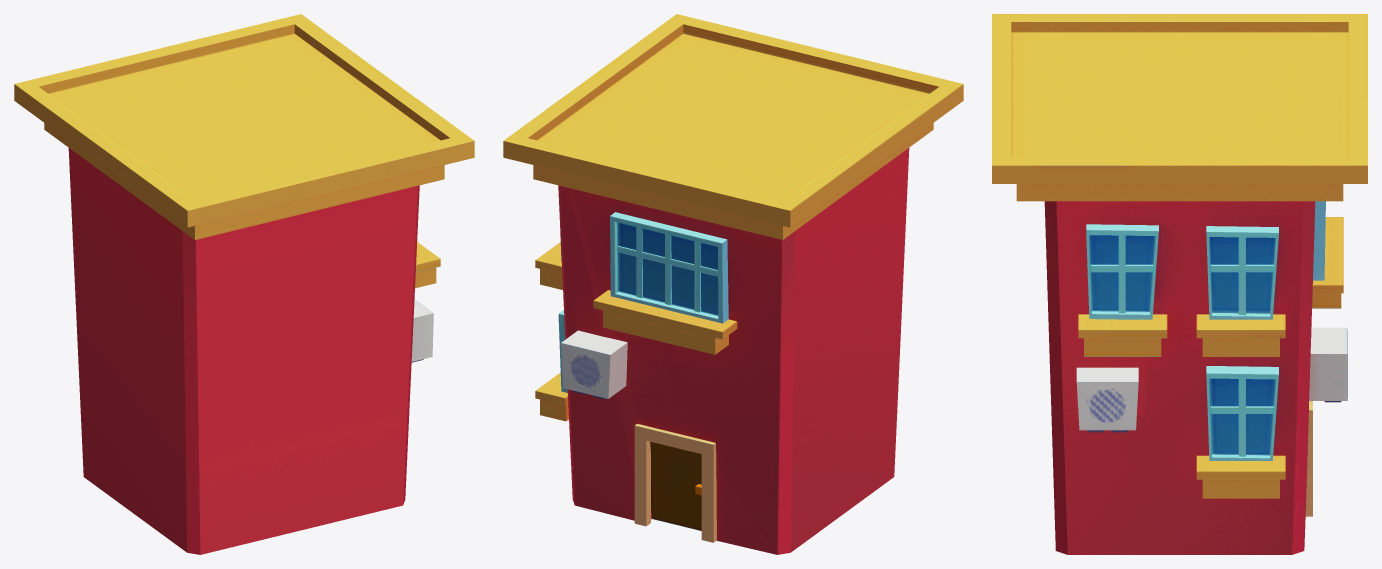
Rendered from building2.glb.
3 views of the same model, side by side, from view 1: azimuth 30°, elevation 25°; view 2: azimuth 150°, elevation 25°; view 3: azimuth 270°, elevation 25° (orthographic). The views are drawn at different scales.
Parts seen in each view (by area): view 1: Building4q4x_1; view 2: Building4q4x_1; view 3: Building4q4x_1.
Boxes of the visible parts, bbox=[...] form: Building4q4x_1: bbox=[14, 14, 474, 554]; Building4q4x_1: bbox=[503, 14, 963, 554]; Building4q4x_1: bbox=[992, 14, 1367, 554].
Bounding box in the file's own units: 4.58 × 5.61 × 4.69.
Materials: 1 (1 with a texture image).
